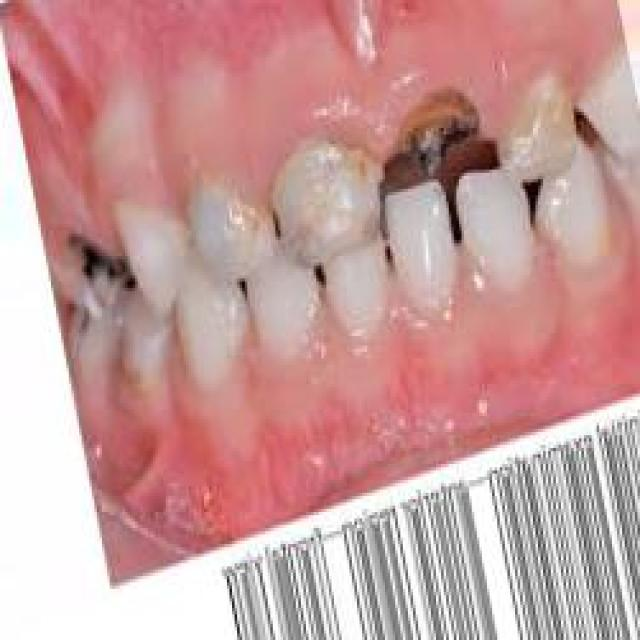caries: (385, 74, 489, 190), (56, 226, 131, 324)
